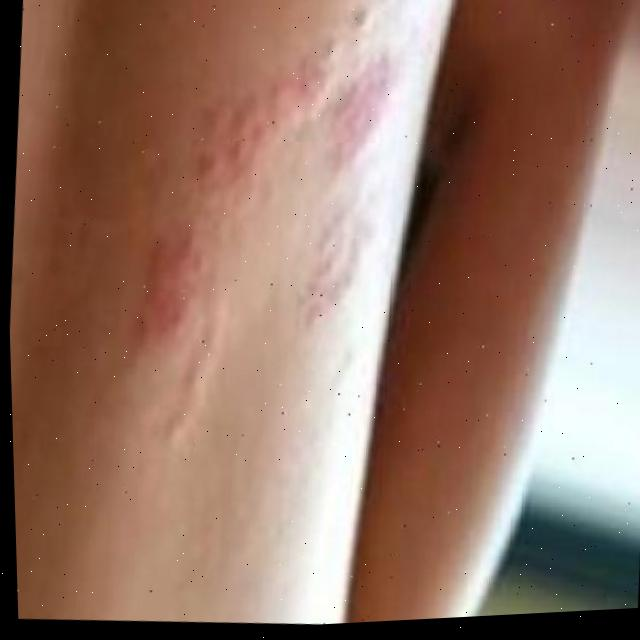Shingles: (127, 21, 407, 333)
